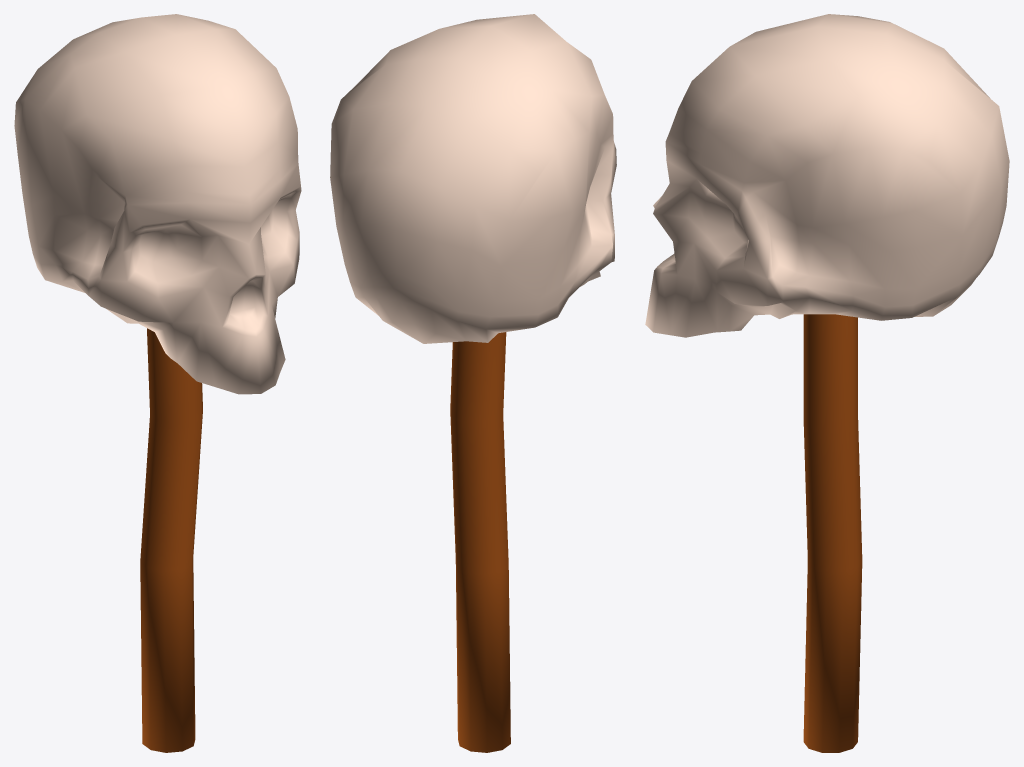
File: SkullHammer.fbx
3 views of the same model, side by side, from view 1: azimuth 30°, elevation 25°; view 2: azimuth 150°, elevation 25°; view 3: azimuth 270°, elevation 25° (orthographic).
Visible parts, largest first — view 1: SkullHammer; view 2: SkullHammer; view 3: SkullHammer.
Boxes of the visible parts, x1,y1,x2,y2 form: SkullHammer: [14, 14, 301, 752]; SkullHammer: [330, 14, 616, 752]; SkullHammer: [645, 14, 1009, 752].
Size of the model in its own units: 30.45 by 90.92 by 41.97.
